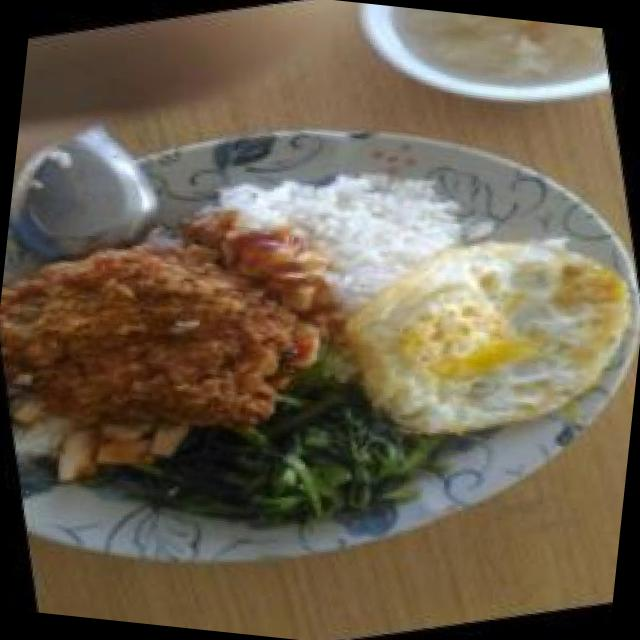fried_chicken: (0, 196, 327, 481)
fried_eggs: (309, 196, 640, 476)
rice: (223, 140, 467, 308)
water_spinach: (102, 346, 460, 578)
